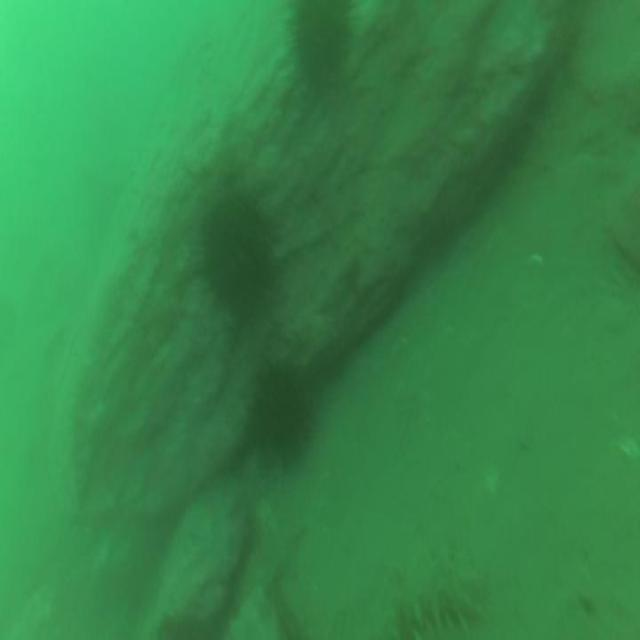echinus: (201, 200, 271, 310), (253, 370, 307, 466), (298, 0, 349, 87)
holothurian: (382, 559, 481, 637)
